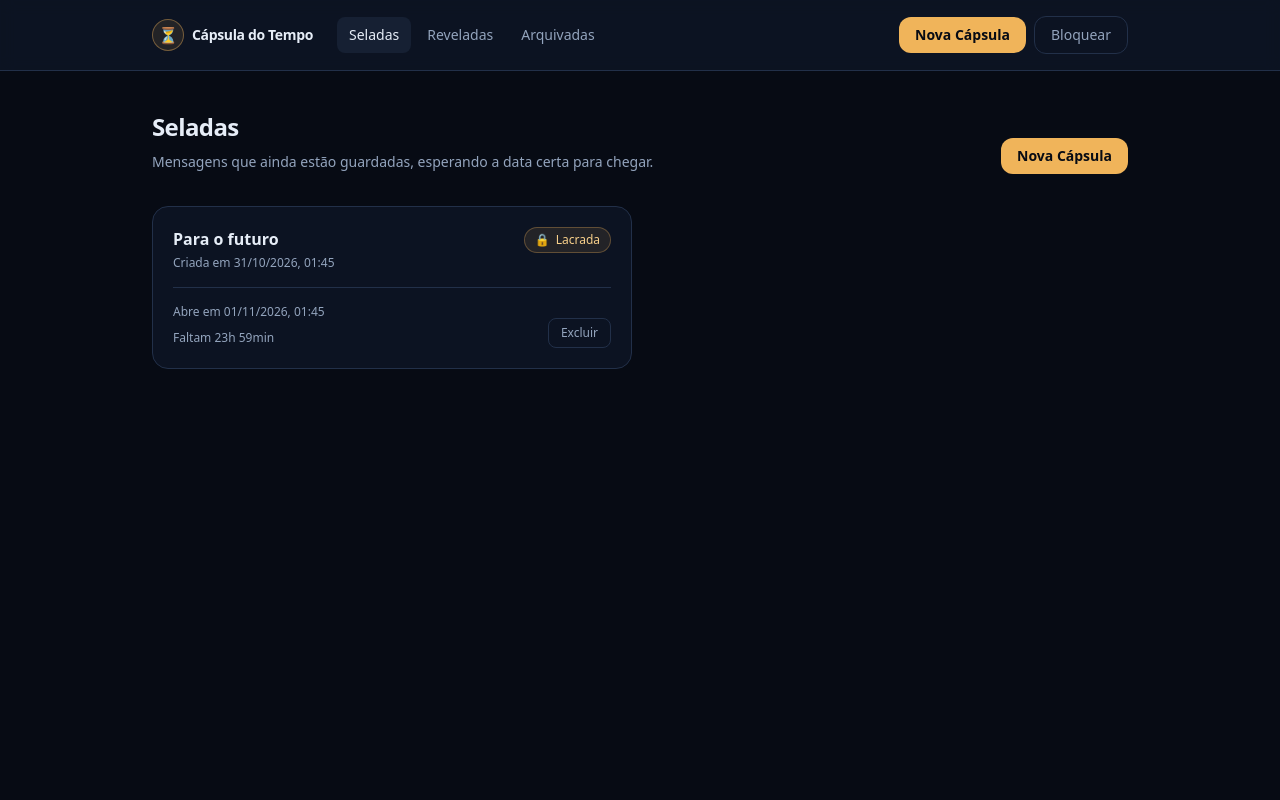
SealedHome › exclui somente após a confirmação
What coordinates should you click on to do the following:
click the button "Excluir"
I would click on:
 (579, 333)
Its box is [548, 318, 611, 348].
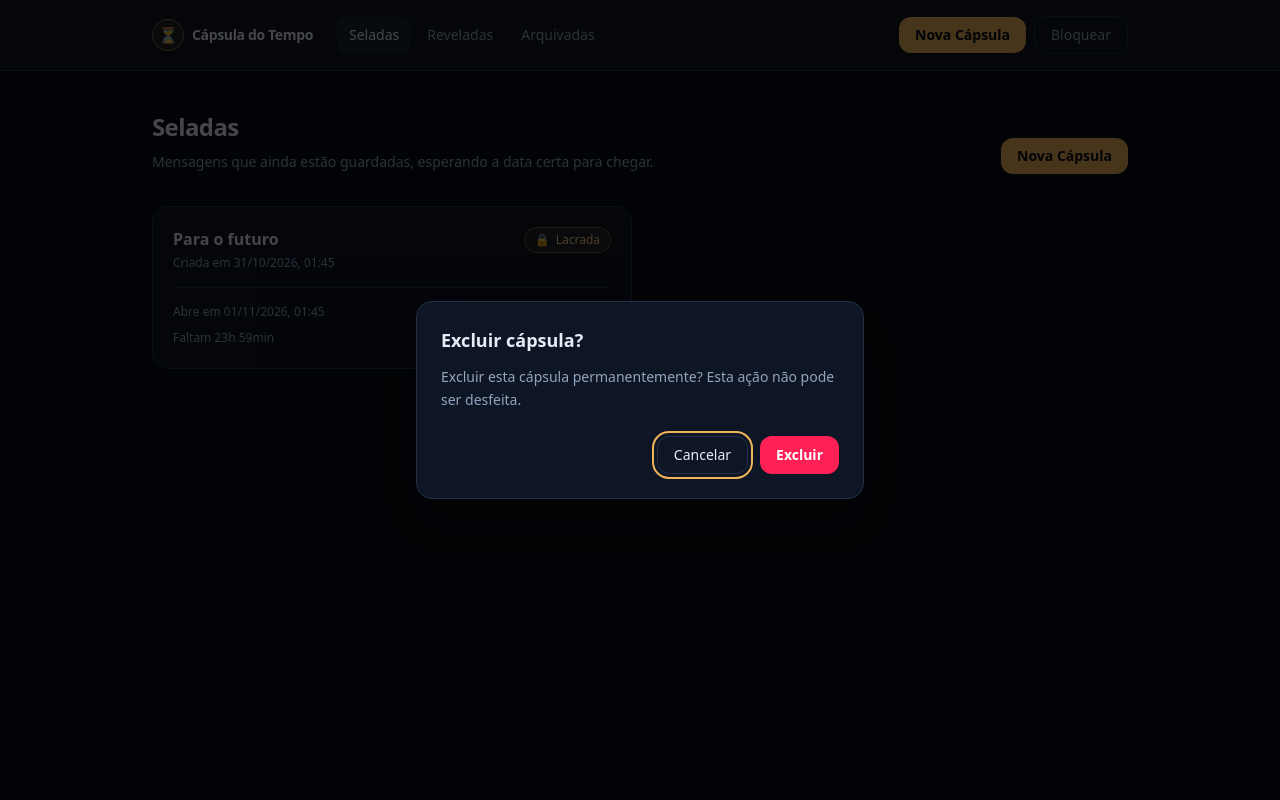
What coordinates should you click on to do the following:
click the button "Excluir"
I would click on:
 (800, 455)
Its box is [760, 436, 839, 474].
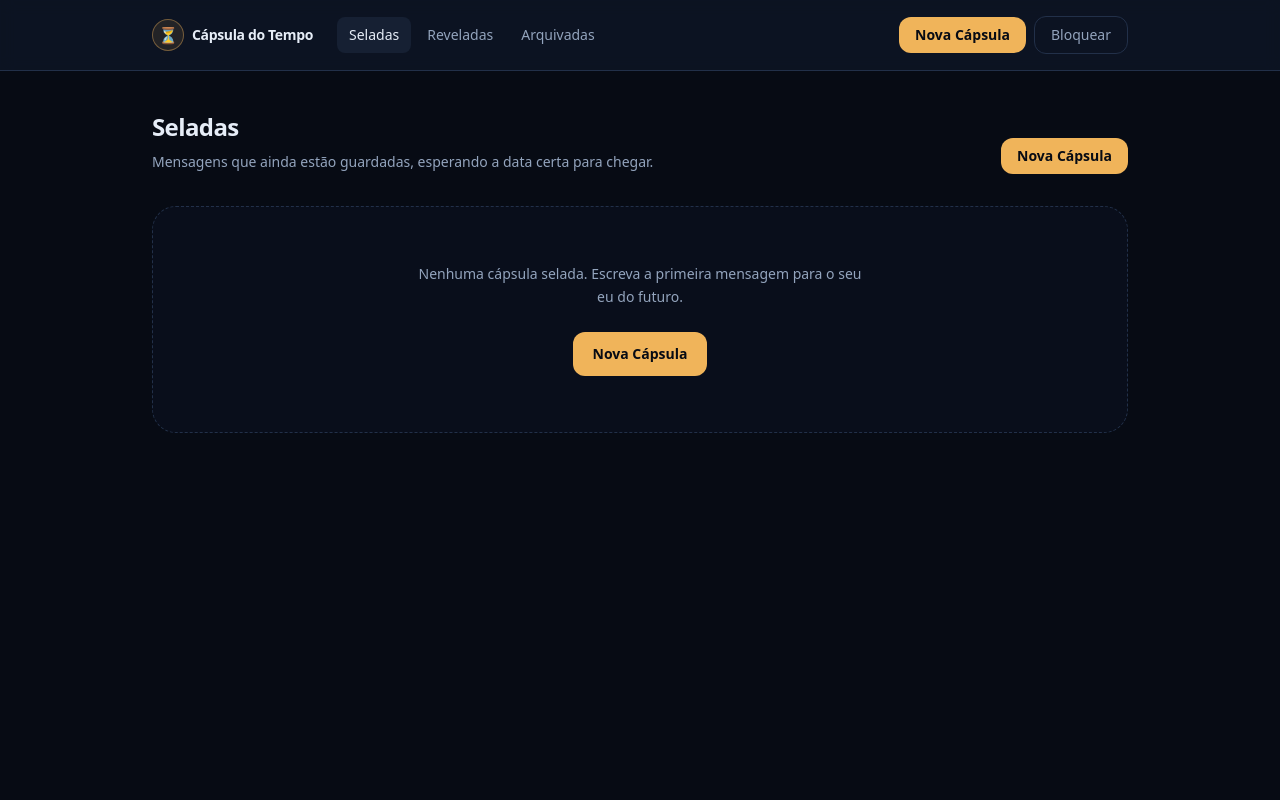
Result: the text "Nenhuma cápsula selada. Escreva a primeira mensagem para o seu eu do futuro." is shown at [416, 263, 864, 308]
